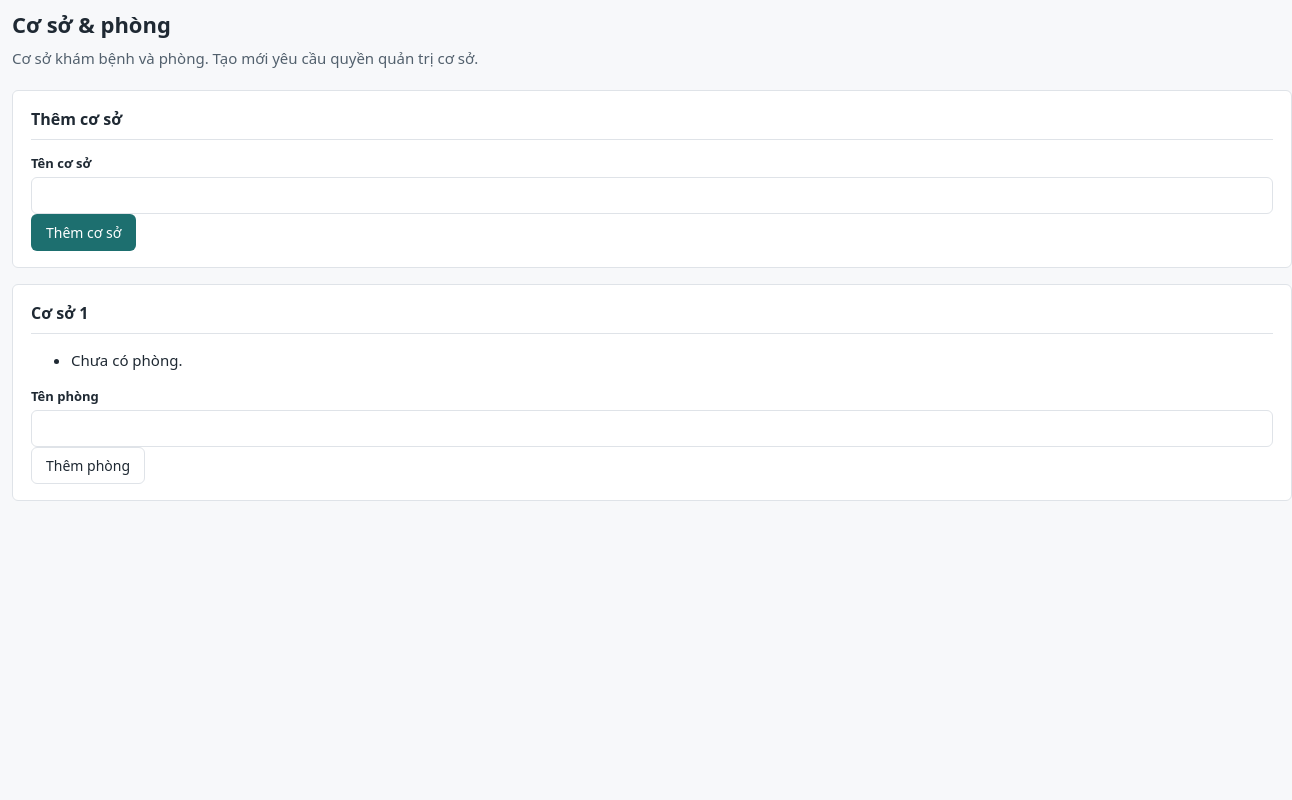
Scenario: FacilitiesRoomsPage (DEC-018) › creates a facility — button shows processing, success toast, no double-submit
Check: the heading "Cơ sở 1" is shown, box [31,301,1273,334]
Type "Cơ sở mới" into the field labelled "Tên cơ sở". click: (652, 196)
box: [31,177,1273,214]
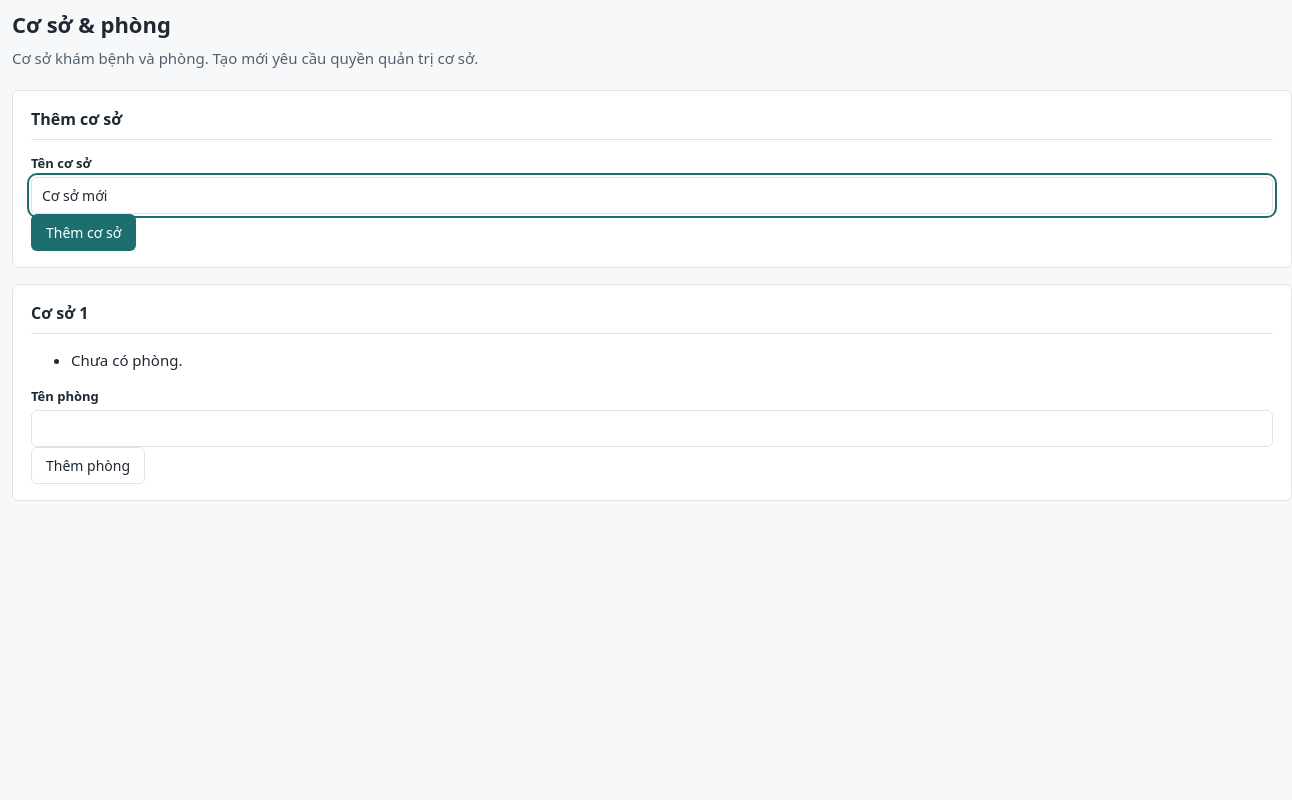
Click the button "Thêm cơ sở". click: click(84, 232)
box: [31,214,136,251]
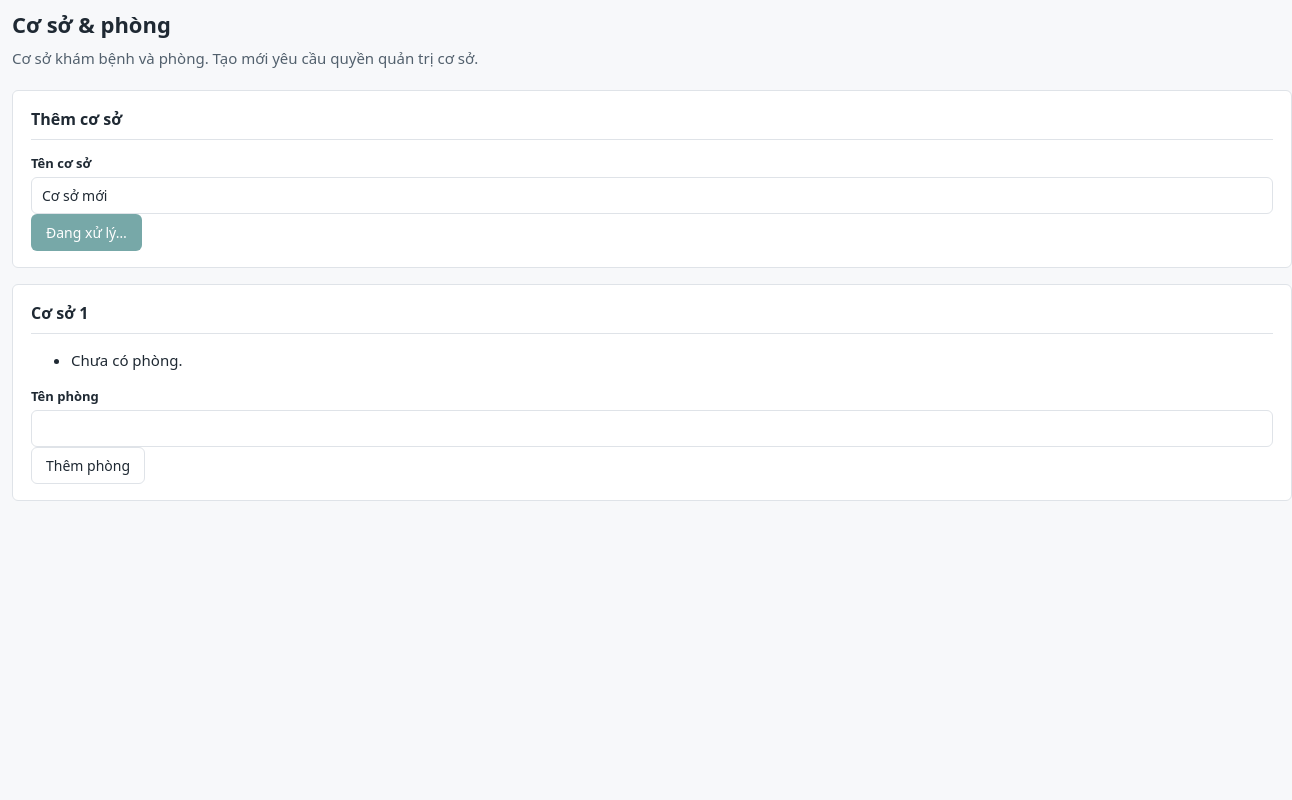
Check: the button "Đang xử lý…" is disabled
Click the button "Đang xử lý…". click: click(86, 232)
box: [31,214,142,251]
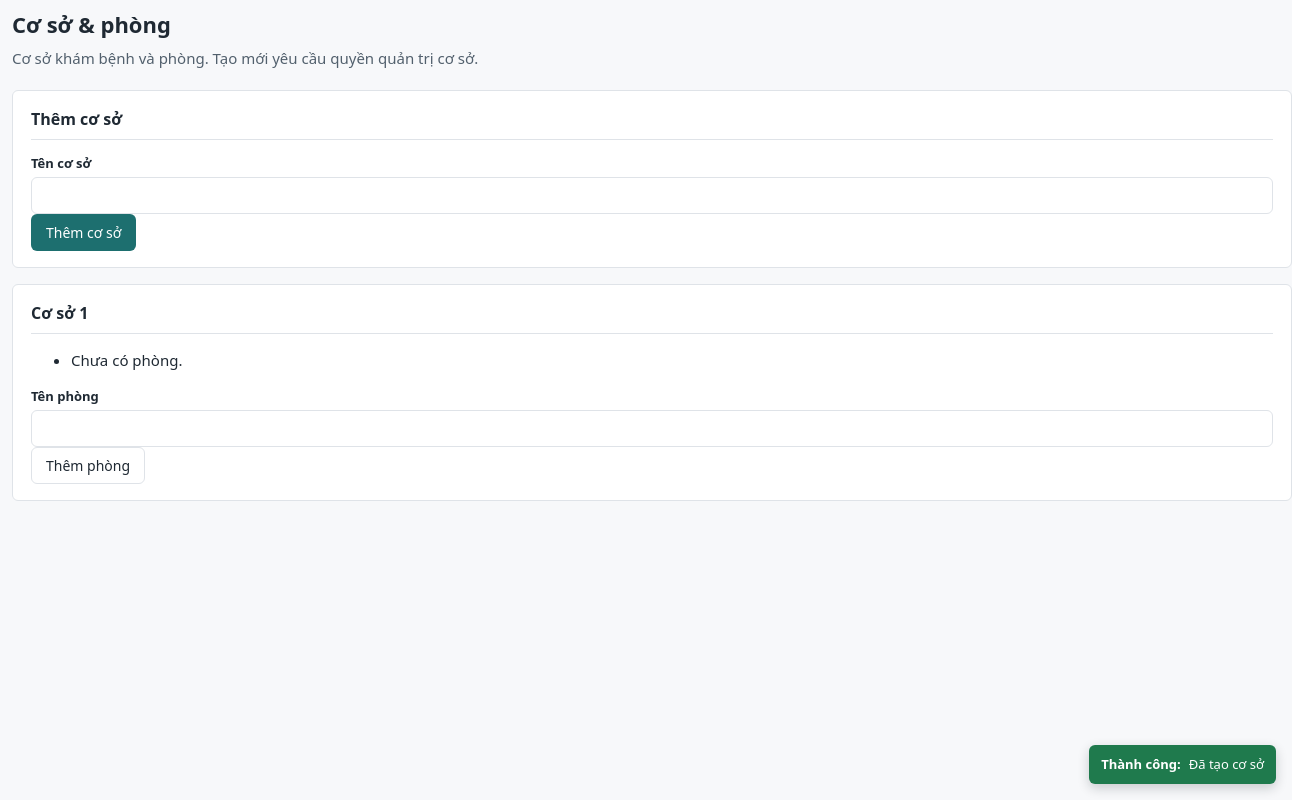
Check: the text "Đã tạo cơ sở" is shown, box [1189,754,1264,774]
